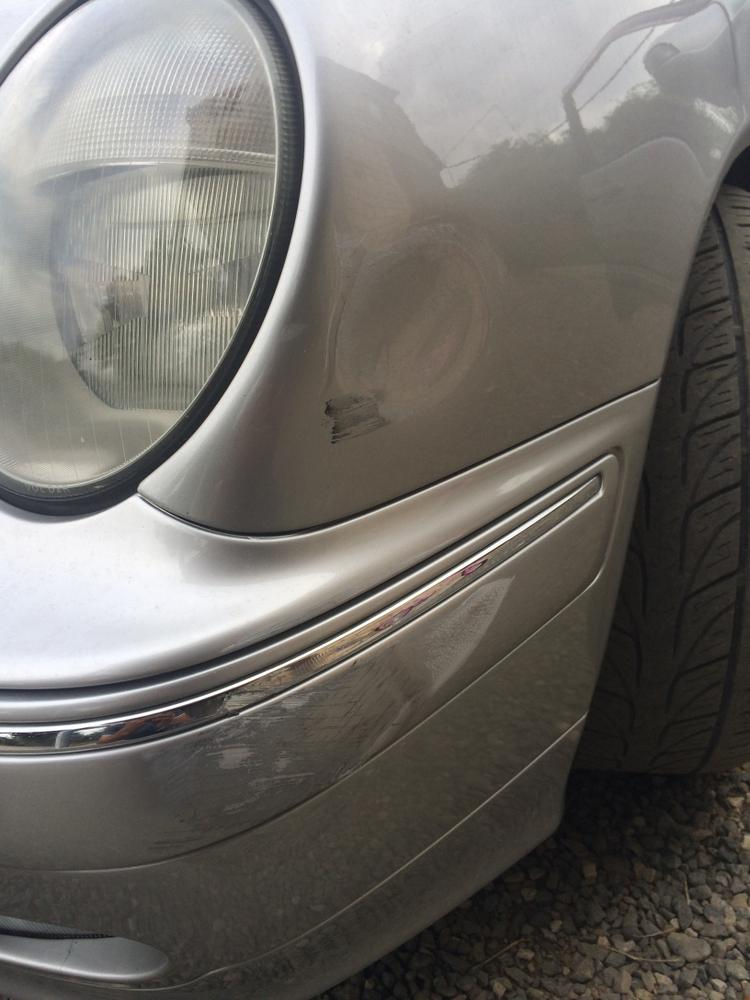dent: (335, 226, 492, 424)
scratch: (134, 573, 518, 857), (324, 389, 379, 444)
